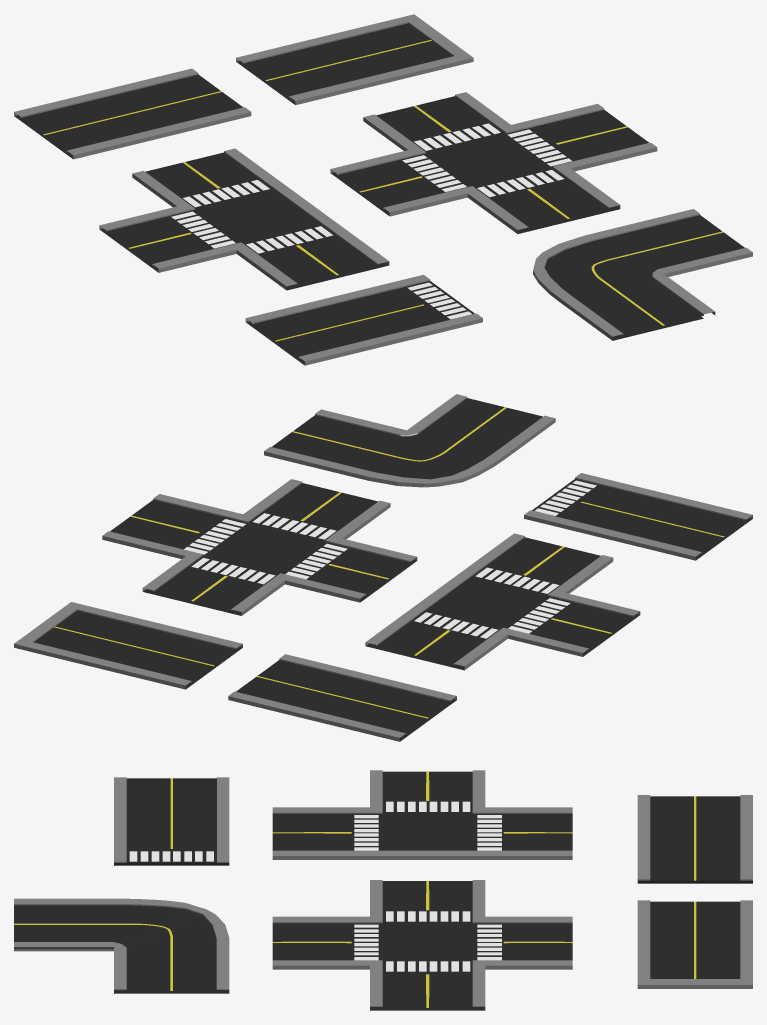
The model's file is tile.glb.
3 views of the same model, one above another, from view 1: azimuth 30°, elevation 25°; view 2: azimuth 150°, elevation 25°; view 3: azimuth 270°, elevation 25° (orthographic). The views are drawn at different scales.
Parts seen in each view (by area): view 1: Roads.003, Roads.000, Roads.004, Roads.008, Roads.001, Roads.002; view 2: Roads.003, Roads.000, Roads.004, Roads.008, Roads.001, Roads.002; view 3: Roads.003, Roads.000, Roads.004, Roads.002, Roads.008, Roads.001.
Part boxes in pixels (x1,y1,x2,y2): Roads.003: (330,92,657,233); Roads.000: (99,148,389,290); Roads.004: (533,209,752,340); Roads.008: (236,14,473,105); Roads.001: (245,274,482,365); Roads.002: (14,68,251,159); Roads.003: (102,479,417,615); Roads.000: (365,533,640,670); Roads.004: (264,394,555,487); Roads.008: (14,602,242,689); Roads.001: (524,473,752,560); Roads.002: (228,654,456,741); Roads.003: (272,880,572,1010); Roads.000: (272,770,572,859); Roads.004: (14,898,229,993); Roads.002: (637,795,752,883); Roads.008: (637,900,752,988); Roads.001: (114,777,229,865).
Bounding box in the file's own units: 5594 × 44.38 × 7387.
